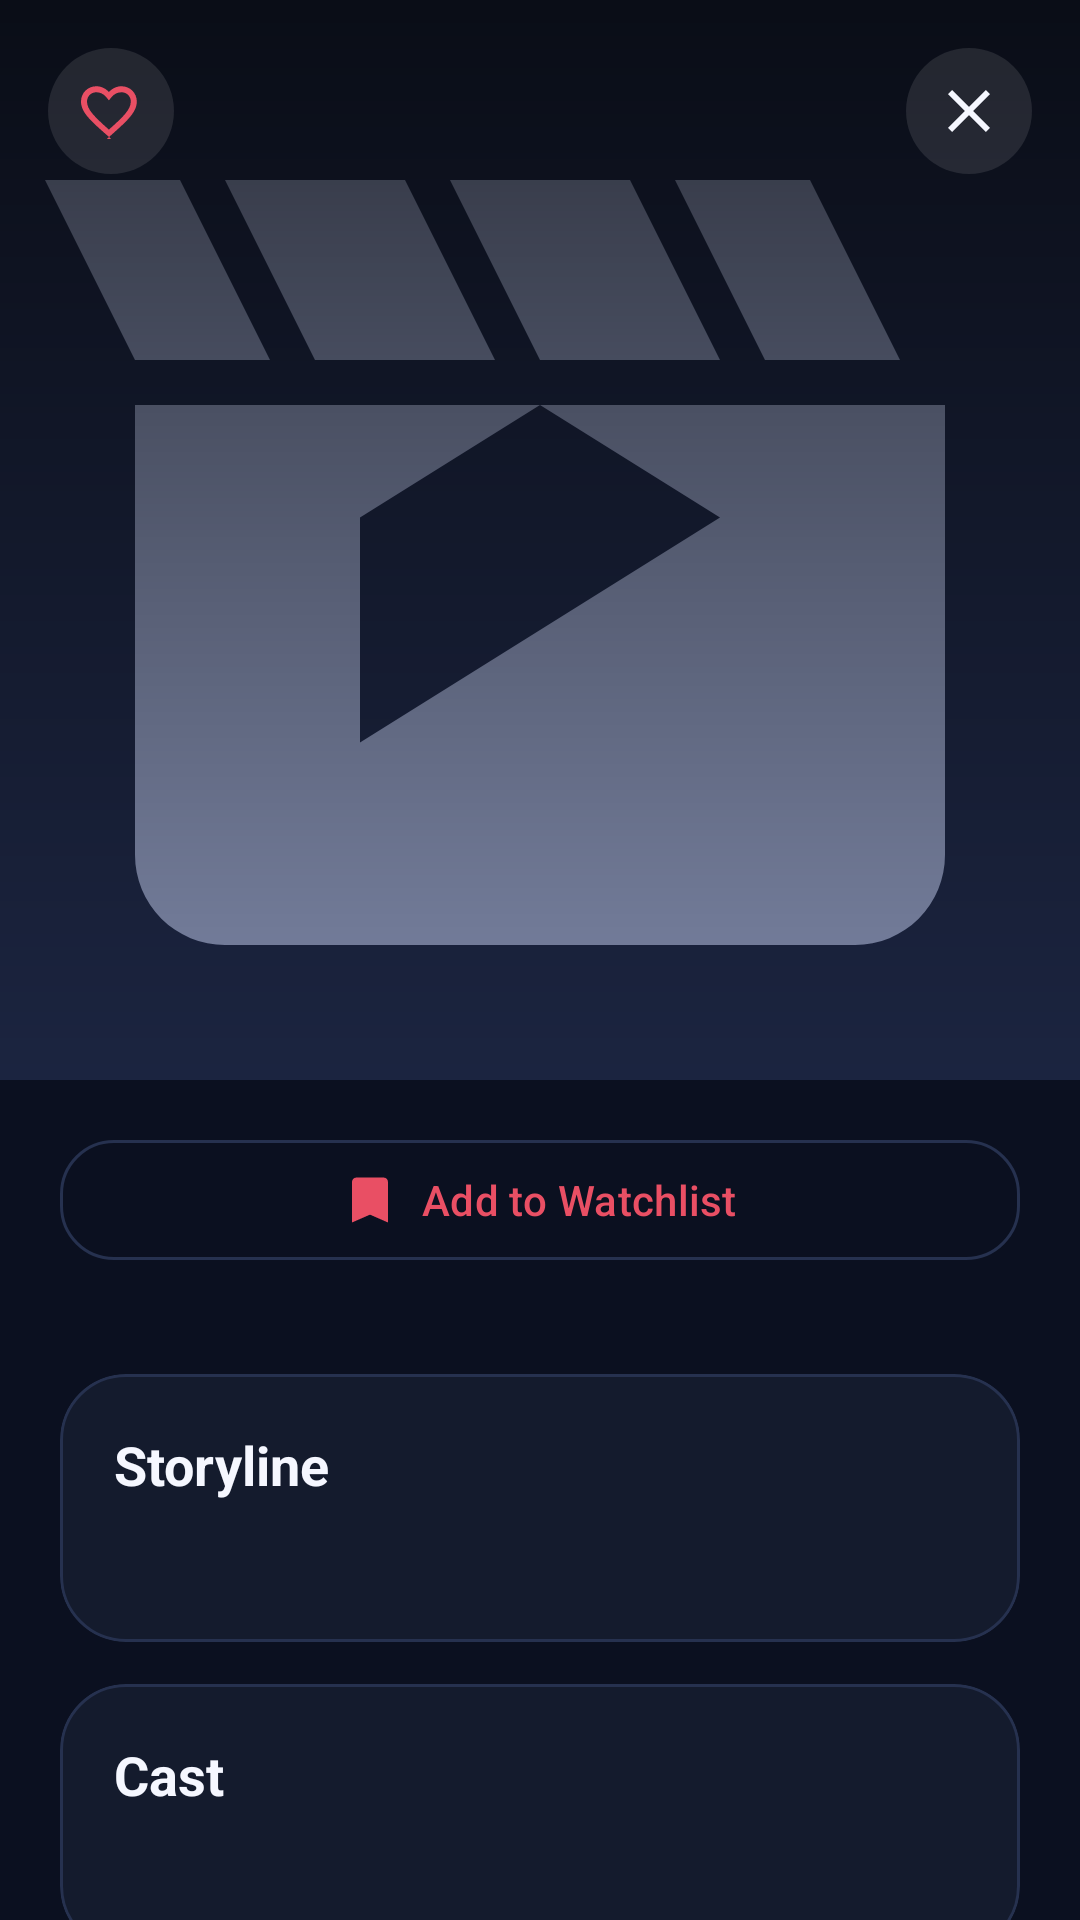

Named icons in this screenshot (1080×1920) and their bounding boxes, (x1, y1, x2, y2):
Close: (907, 90, 1031, 174)
Favorite: (49, 86, 173, 174)
